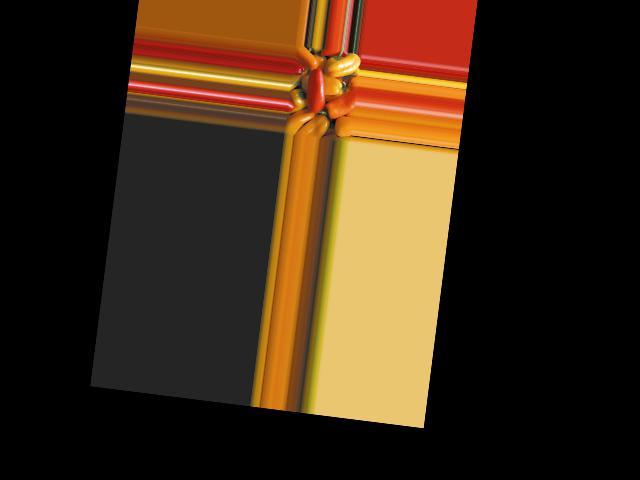bell_pepper: (326, 49, 360, 81)
